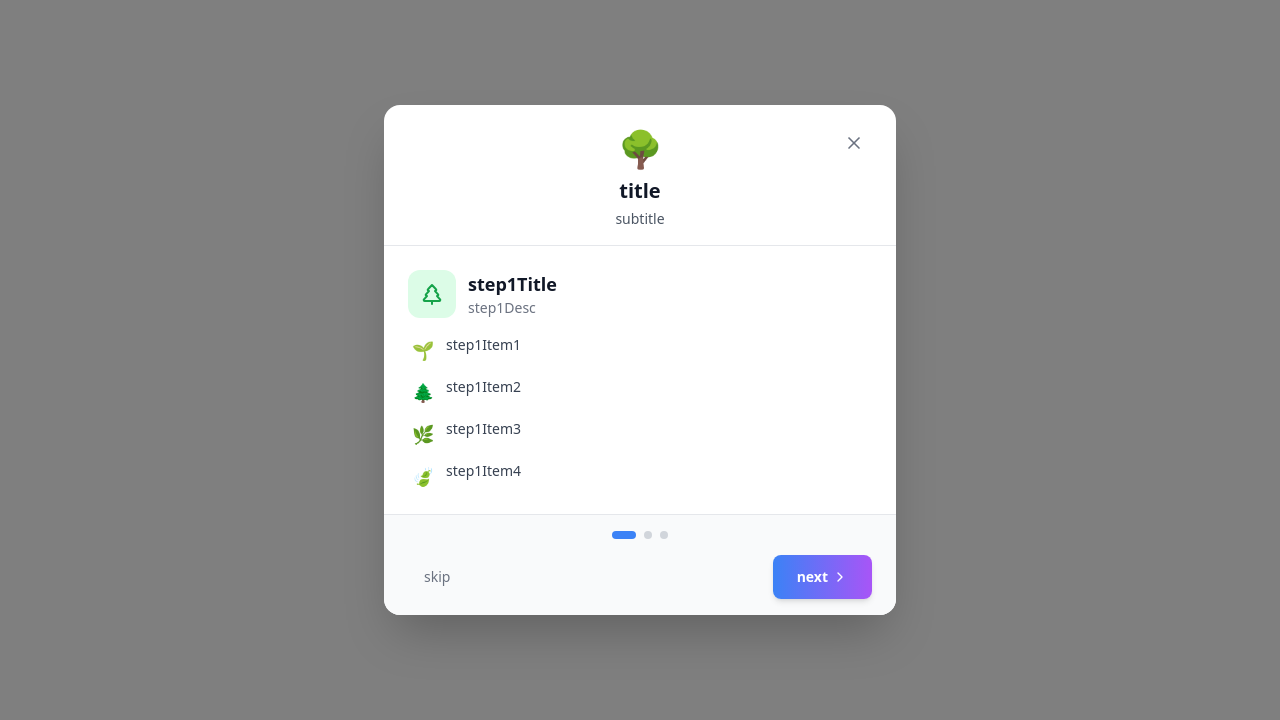
WelcomeModal › navigates to next step
Click the button "next". click: (822, 577)
box: [773,555,872,599]
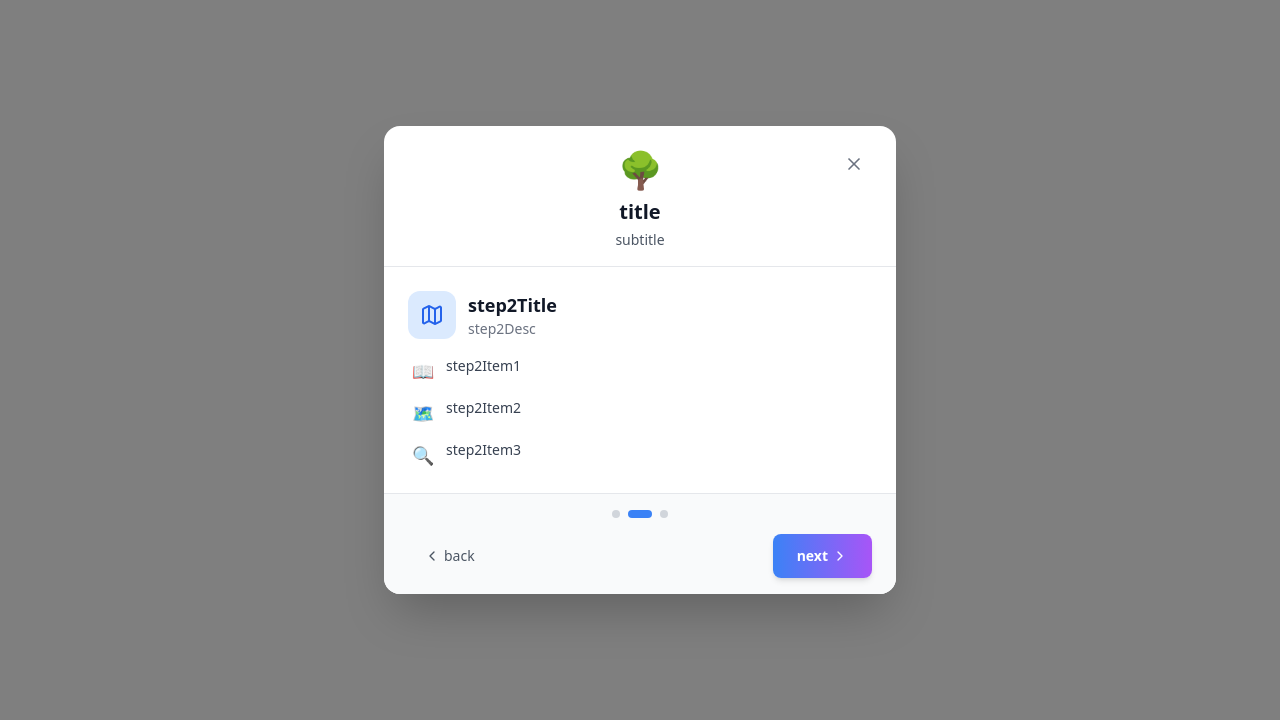
Expected: the heading "step2Title" is shown, [468,291,557,319]
